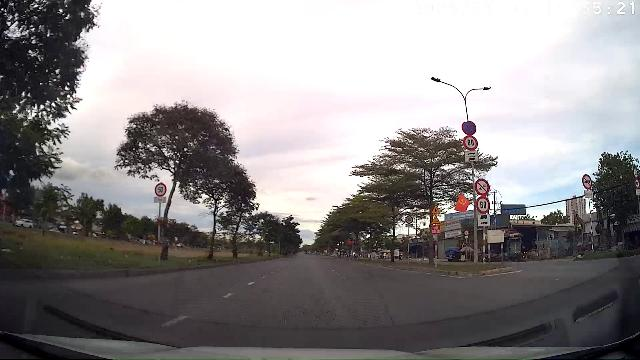127-toc-do-toi-da-50: (155, 182, 167, 196)
127-toc-do-toi-da-60: (477, 196, 491, 214)
127-toc-do-toi-da-80: (464, 136, 478, 150)
130-cam-dung-va-do-xe: (462, 121, 476, 135)
